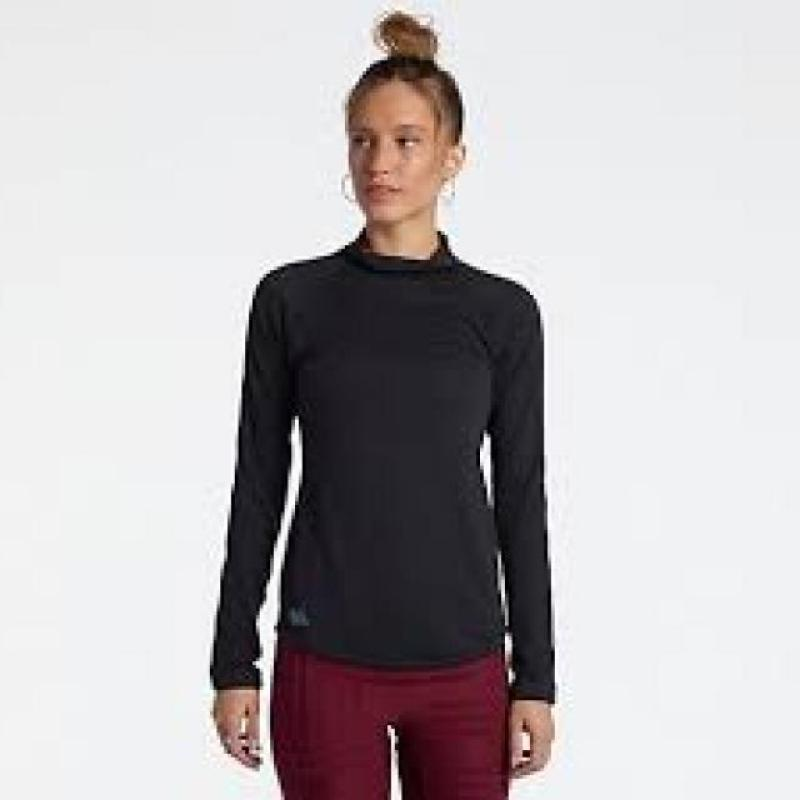sweater: (206, 229, 555, 696)
trousers: (267, 647, 513, 800)
